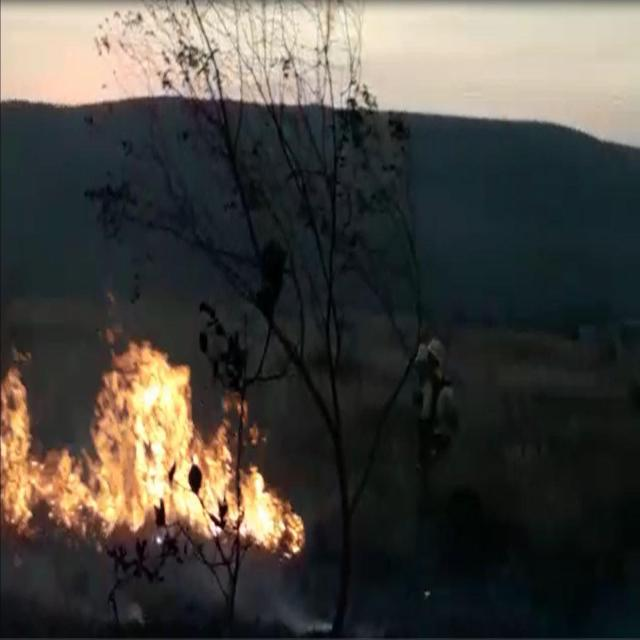Fire: (3, 337, 305, 558)
